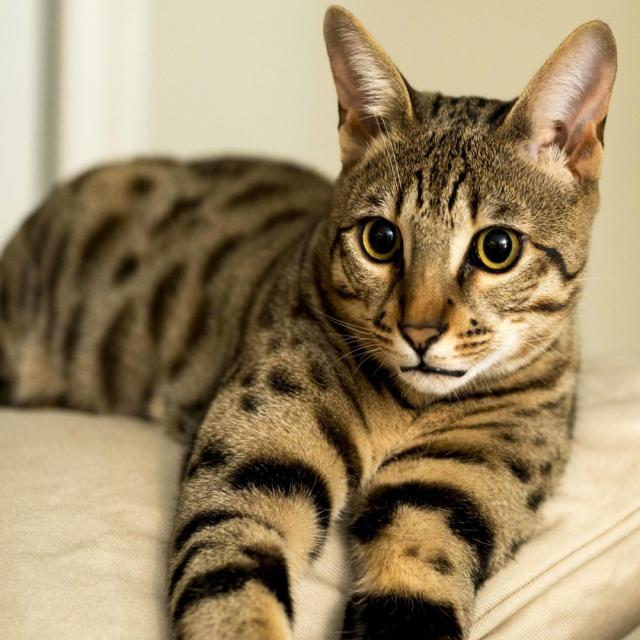Savannah: (0, 0, 625, 640)
